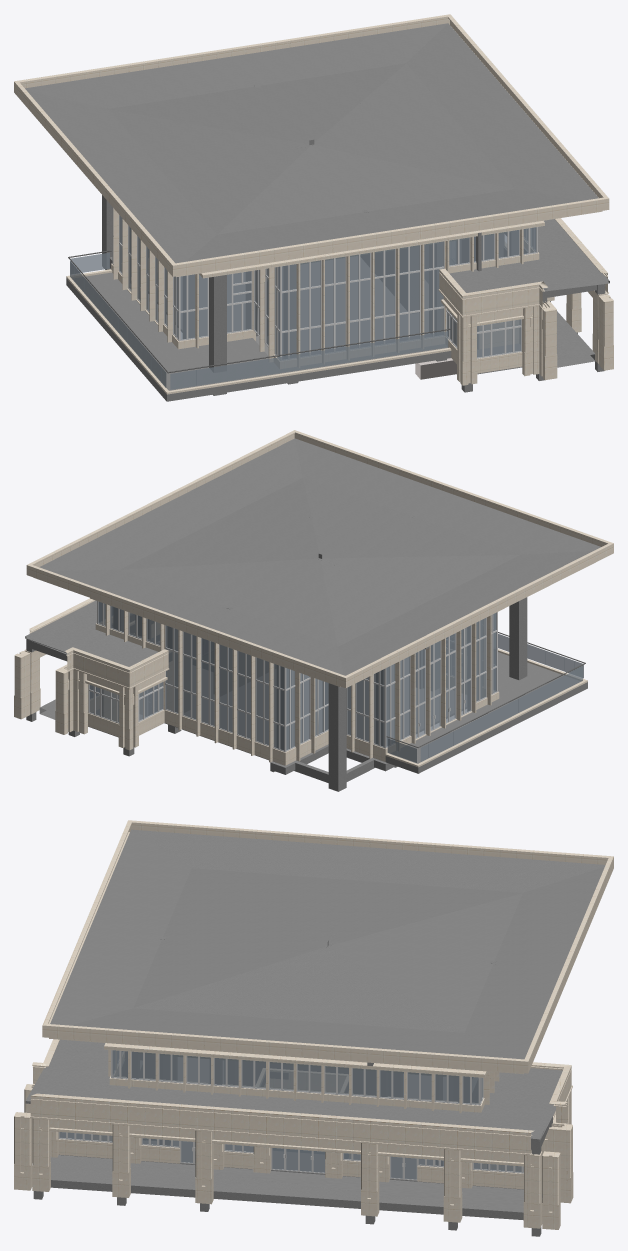
The model's file is jiedaixuan.gltf.
The picture shows the model from 3 angles, top to bottom: view 1: azimuth 30°, elevation 25°; view 2: azimuth 150°, elevation 25°; view 3: azimuth 270°, elevation 25°; orthographic projection. The views are drawn at different scales.
Parts seen in each view (by area): view 1: jiedaixuan29; view 2: jiedaixuan29; view 3: jiedaixuan29.
Boxes of the visible parts, box(x1,y1,x2,y2) form: jiedaixuan29: box(14, 14, 613, 401); jiedaixuan29: box(14, 430, 613, 791); jiedaixuan29: box(14, 820, 613, 1236).
Bounding box in the file's own units: 30.58 × 11.4 × 32.11.
Materials: 12 (3 with a texture image).
